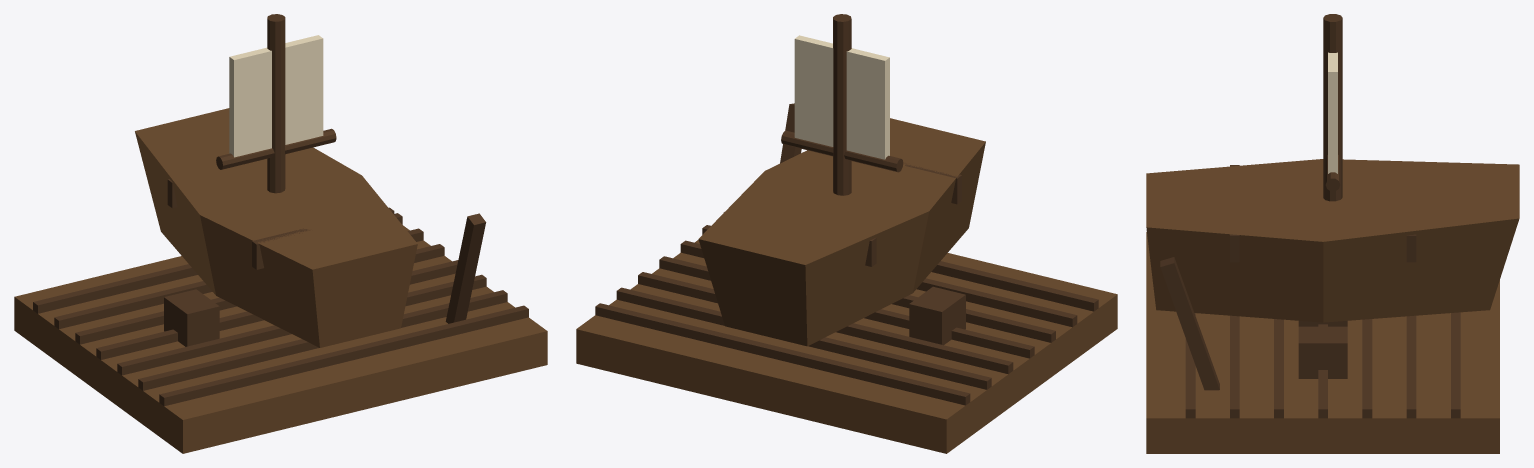
The model's file is shipyard.glb.
The picture shows the model from 3 angles, left to right: view 1: azimuth 30°, elevation 25°; view 2: azimuth 150°, elevation 25°; view 3: azimuth 270°, elevation 25°; orthographic projection. The views are drawn at different scales.
Parts seen in each view (by area): view 1: deck; view 2: deck; view 3: deck.
Boxes of the visible parts, <box> form: deck: <box>14,14,547,453</box>; deck: <box>576,14,1117,453</box>; deck: <box>1146,14,1519,453</box>.
Size of the model in its own units: 0.9 by 0.77 by 0.76.
